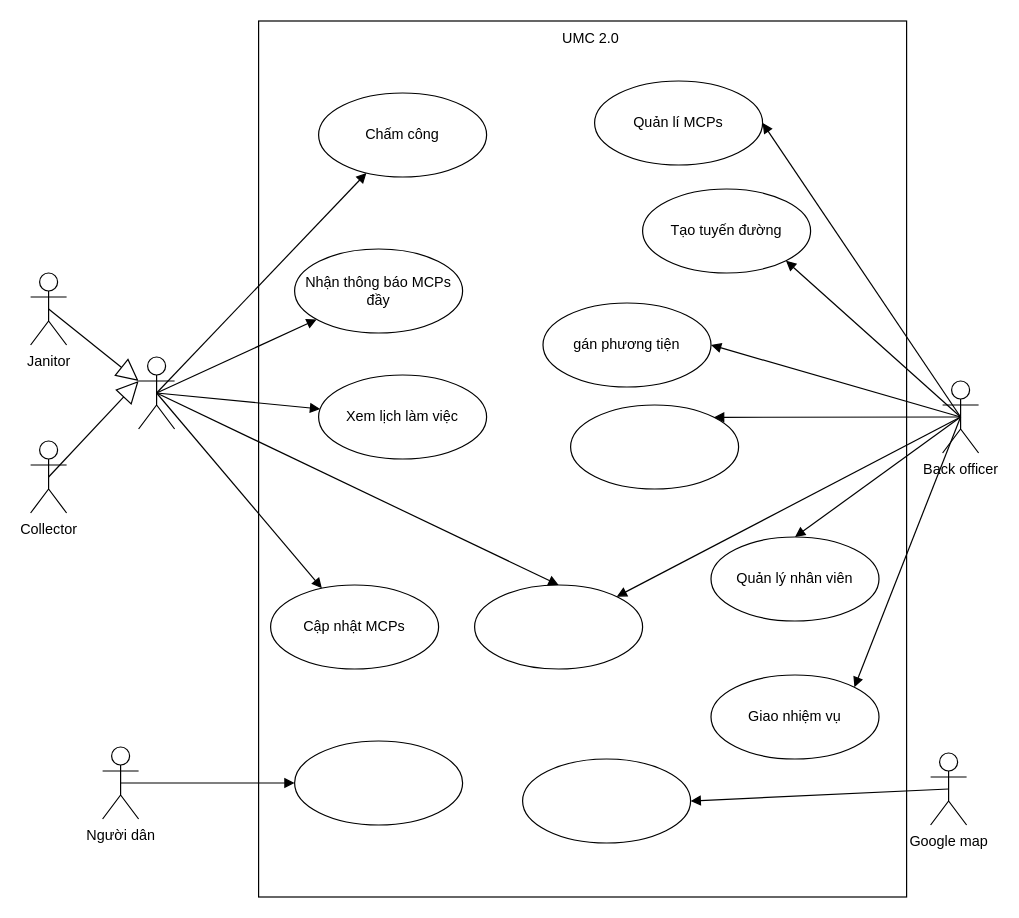
This 1019x918 diagram has some shape labels left out. The centre of each missing label's shape, as x and y in pixels:
"Gửi tin nhắn" belongs at point (558, 626).
"Hiện bản đồ" belongs at point (606, 800).
"Phản hồi" belongs at point (378, 782).
"Quản lí phương tiện" belongs at point (654, 446).
"Staff" belongs at point (156, 392).
